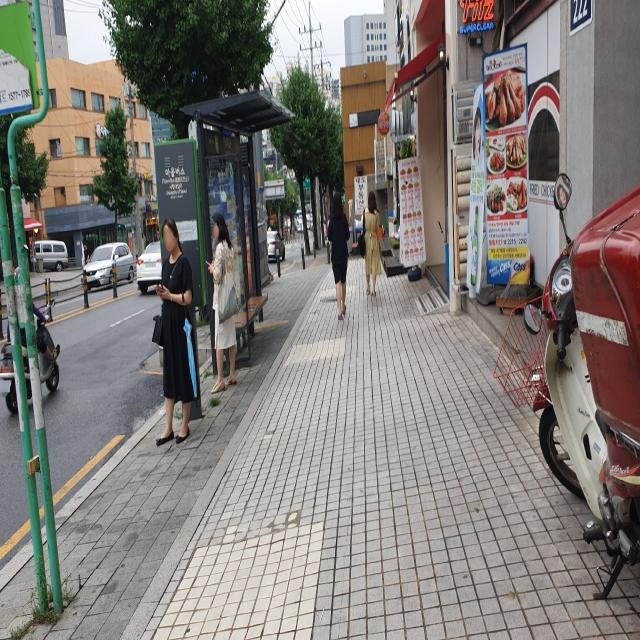car: (267, 227, 285, 260)
motorbike: (492, 170, 640, 602)
